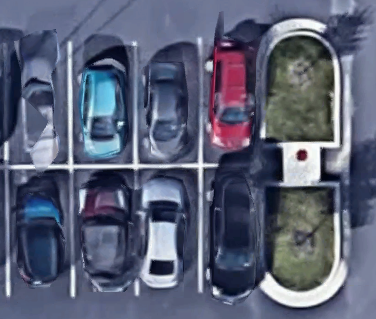Occupied: (6, 166, 72, 297), (73, 165, 137, 296), (137, 165, 201, 295), (71, 41, 137, 165), (6, 41, 71, 166), (136, 39, 200, 165), (200, 38, 260, 166), (201, 166, 260, 295)
